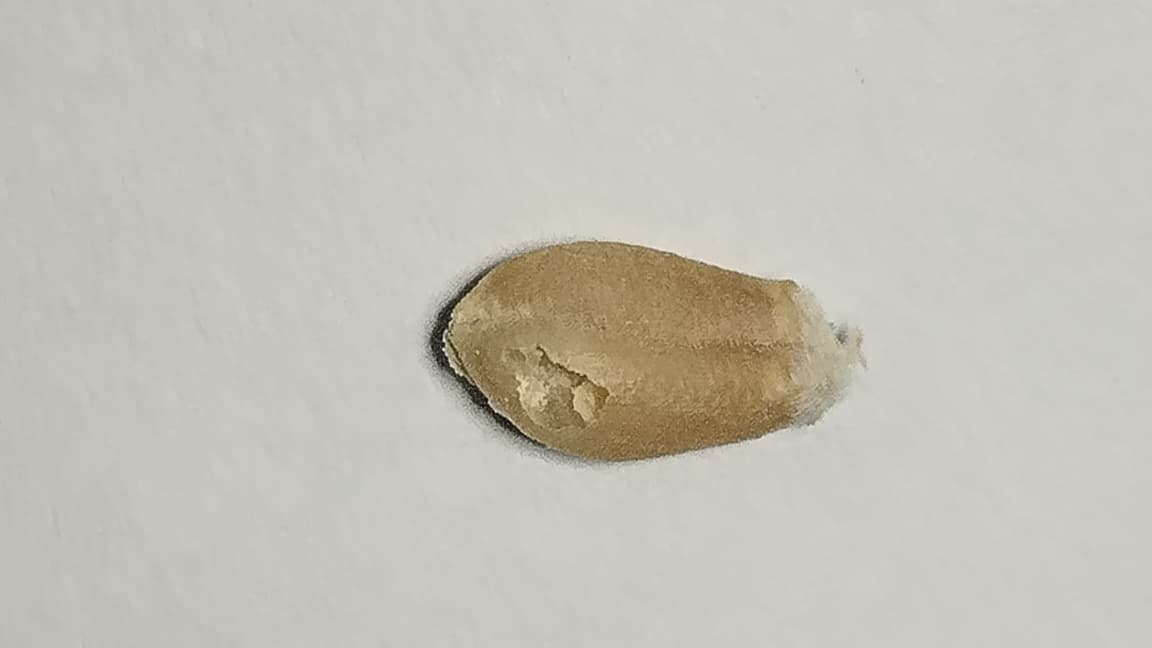damage: (442, 238, 845, 460)
insectdamage: (486, 344, 619, 435)
